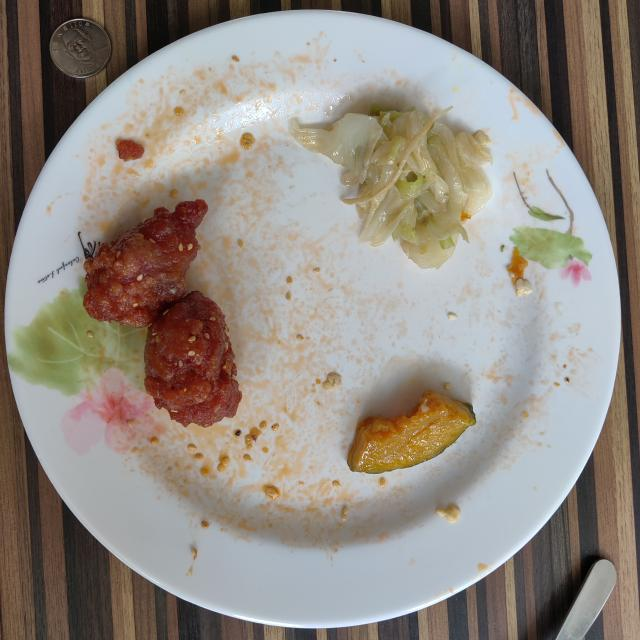cabbage: (291, 106, 491, 269)
coin: (50, 19, 111, 78)
pumpkin: (348, 390, 476, 474)
